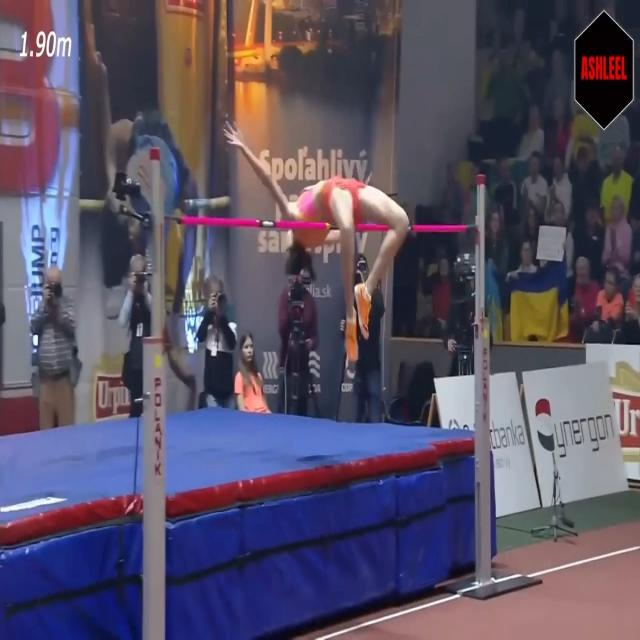jump: (222, 111, 408, 361)
